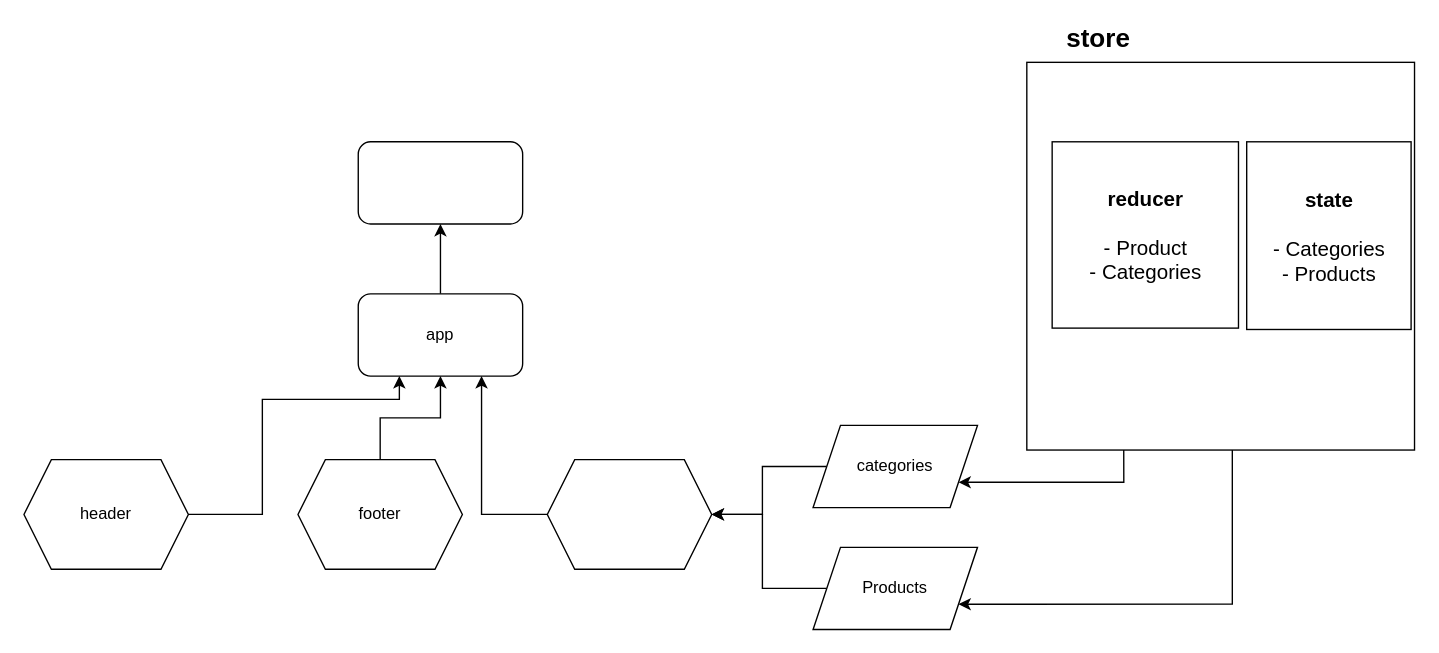
Some shapes in this 1439 by 653 pixel diagram are drawn without their labels. The shapes that lost their labels are listed below. From the top down, each one's centre as x and y in pixels, then its label:
point 440,182: index
point 629,513: storeFornt
